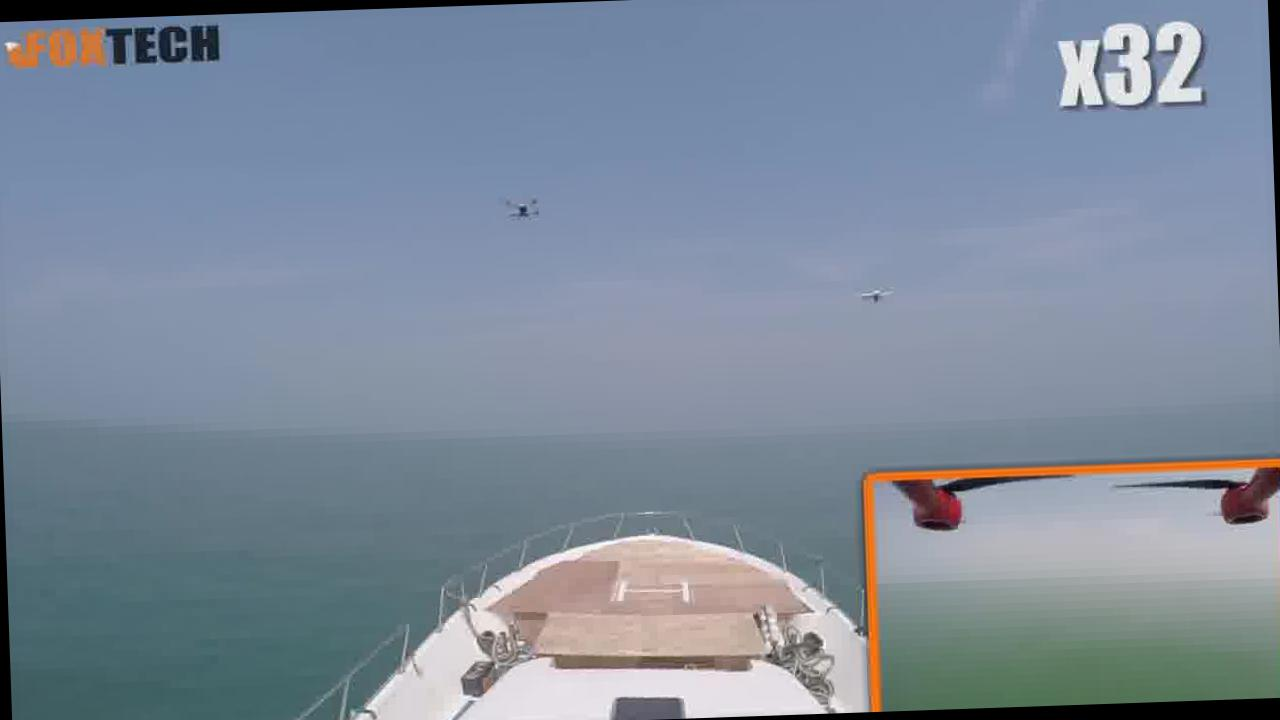drone: (484, 175, 558, 231), (850, 276, 906, 312)
